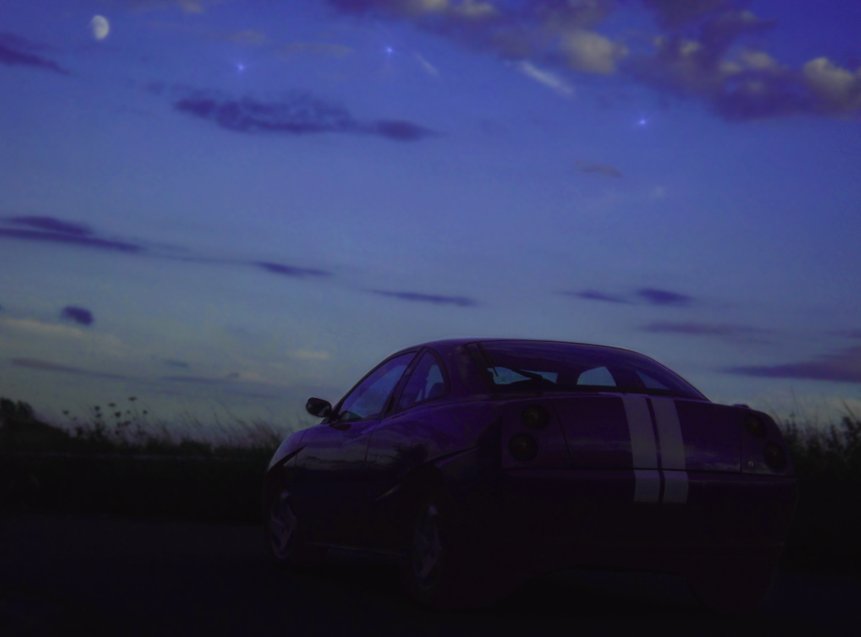car: (252, 333, 808, 616)
